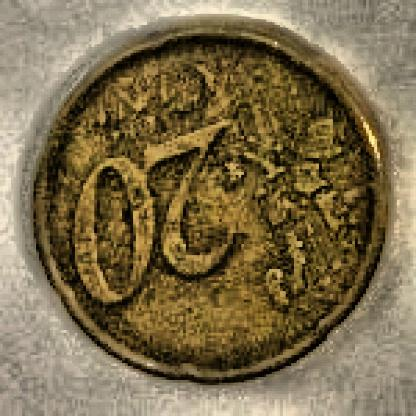coin: (30, 17, 399, 384)
